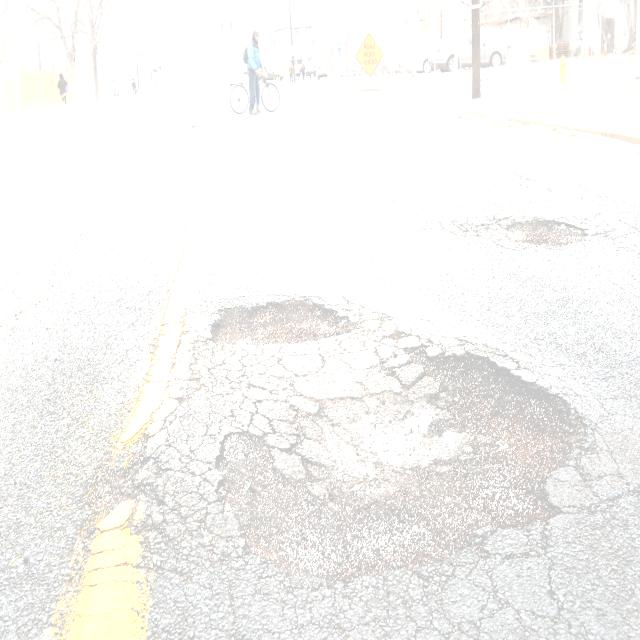Pothole: (195, 274, 587, 598)
